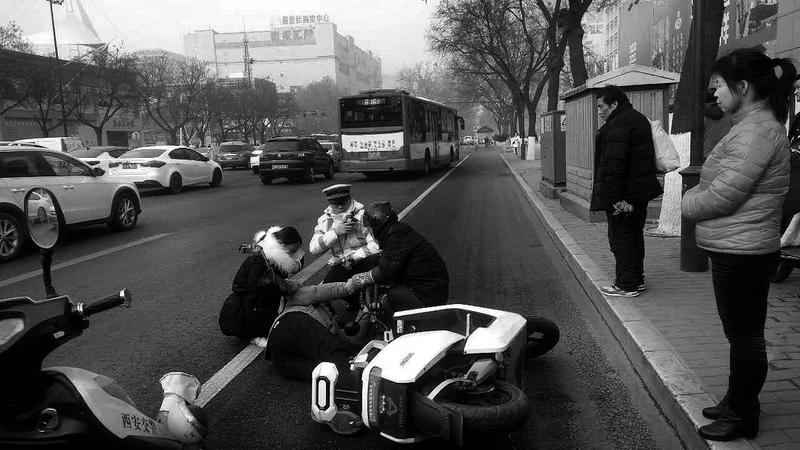fall: (243, 244, 393, 401)
